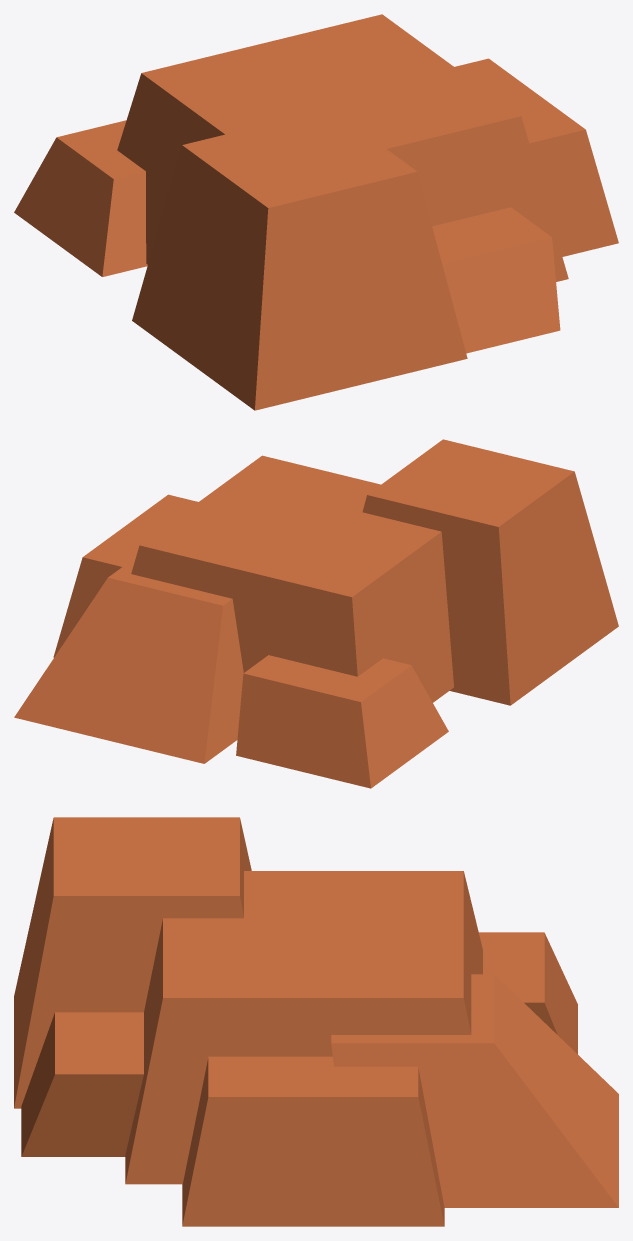
Rendered from Clay0.fbx.
3 views of the same model, one above another, from view 1: azimuth 30°, elevation 25°; view 2: azimuth 150°, elevation 25°; view 3: azimuth 270°, elevation 25° (orthographic). The views are drawn at different scales.
Visible parts, largest first — view 1: Clay0; view 2: Clay0; view 3: Clay0.
Part boxes in pixels (x1,y1,x2,y2): Clay0: [14, 14, 618, 410]; Clay0: [14, 439, 618, 788]; Clay0: [14, 817, 618, 1226].
Bounding box in the file's own units: 294 × 115 × 322.
